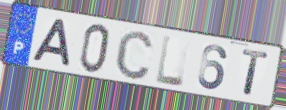0: (77, 22, 112, 75)
6: (197, 44, 229, 91)
A: (29, 17, 72, 70)
C: (113, 29, 156, 82)
L: (154, 34, 186, 89)
T: (241, 47, 271, 99)
